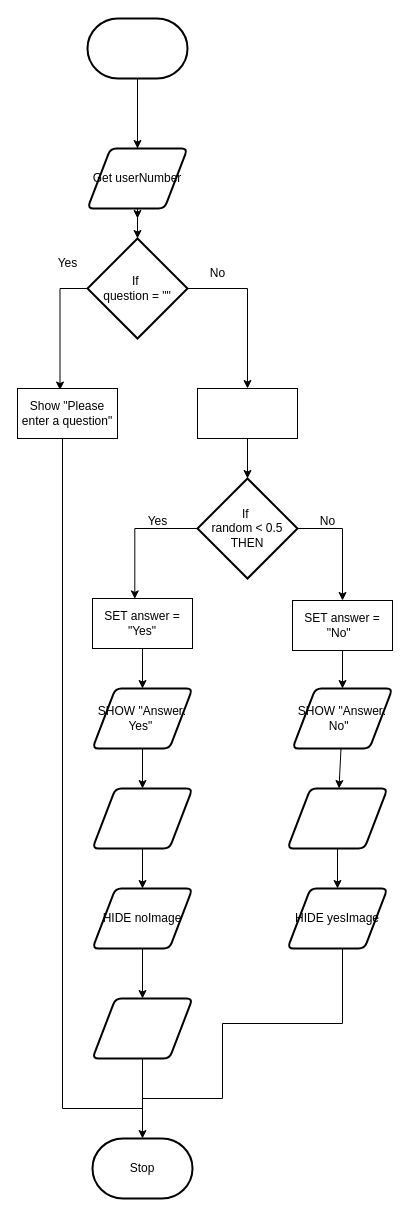
Image size: 411x1216. Some labels were removed from this diagram. The box of each missing label's shape, as (x1, y1, x2, y2) in pixels:
Generate random number: (196, 388, 298, 438)
SHOW noImage: (286, 787, 388, 849)
SHOW yesImage: (91, 787, 193, 849)
Start: (86, 17, 188, 79)
START confetti: (91, 997, 193, 1059)
